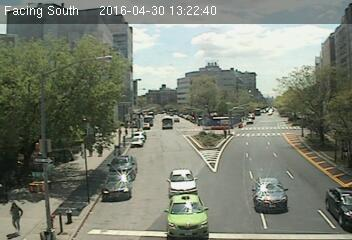neg: (306, 98, 343, 149), (44, 49, 77, 93), (251, 101, 283, 144), (93, 60, 124, 102), (252, 177, 279, 213), (35, 120, 62, 156), (141, 90, 166, 123), (259, 39, 281, 68), (106, 178, 127, 206), (165, 166, 186, 193), (35, 166, 55, 193), (217, 121, 237, 147), (61, 203, 79, 227), (178, 32, 196, 56), (189, 72, 207, 95)
pos: (3, 198, 28, 232), (91, 142, 102, 156)
